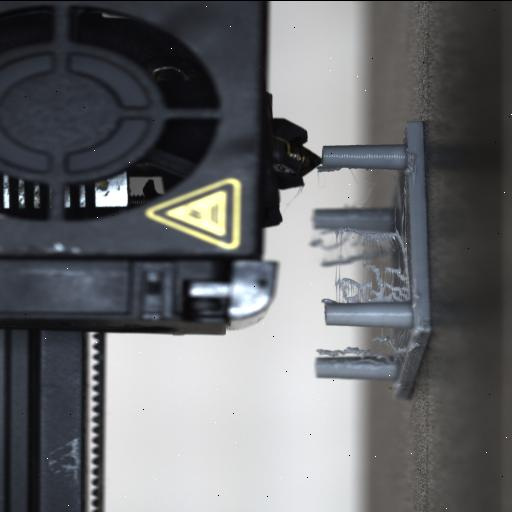stringing: (336, 225, 404, 303), (312, 342, 382, 358)
